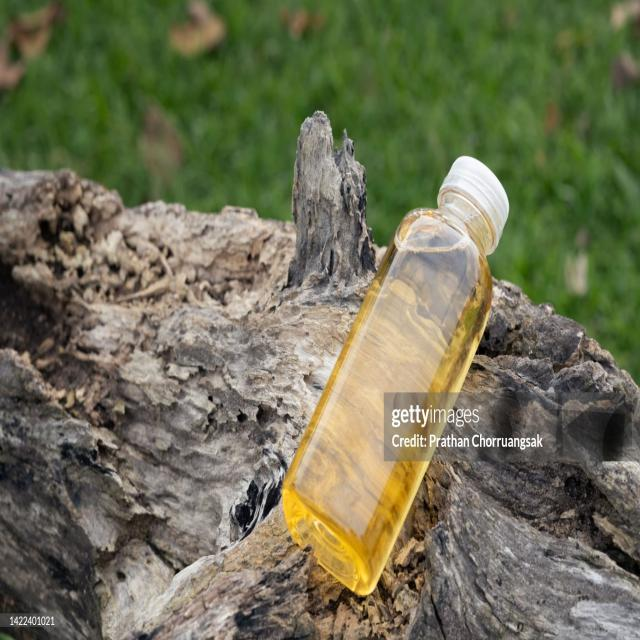bottle: (280, 153, 511, 597)
